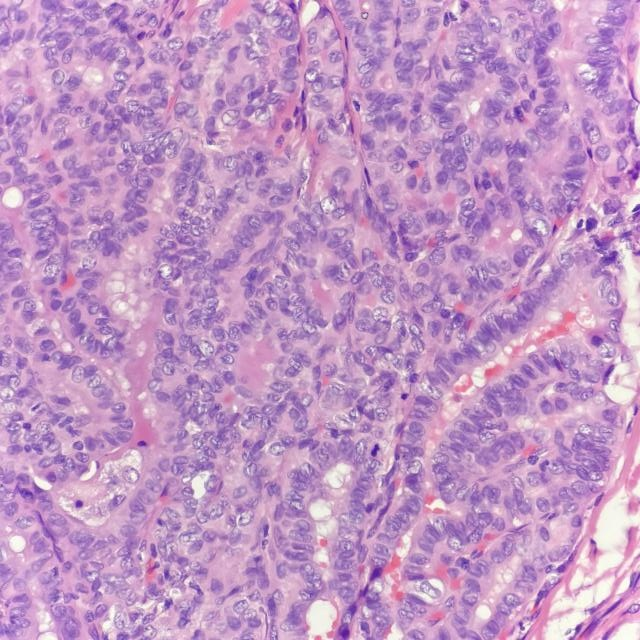TC: (229, 505, 264, 537), (211, 107, 253, 133), (316, 190, 344, 224), (263, 435, 295, 461), (281, 289, 313, 313), (410, 275, 437, 302), (380, 510, 407, 537), (413, 381, 447, 402), (406, 331, 433, 357), (240, 213, 270, 236), (325, 373, 347, 404), (364, 303, 392, 327), (366, 266, 391, 292), (293, 456, 320, 479), (469, 560, 498, 581), (476, 317, 498, 343), (378, 195, 402, 218), (435, 355, 458, 379), (338, 509, 370, 526), (342, 247, 363, 272), (311, 441, 332, 466), (279, 501, 314, 516), (401, 550, 433, 566), (475, 257, 489, 289), (430, 513, 450, 535), (377, 290, 401, 308), (289, 306, 307, 329), (385, 158, 406, 174), (366, 457, 388, 472), (355, 478, 377, 492), (355, 438, 369, 458), (413, 539, 438, 550), (299, 352, 313, 371)
